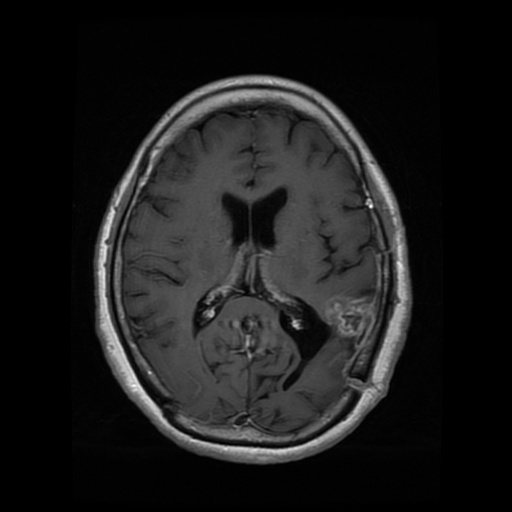glioma: (321, 289, 369, 339)
